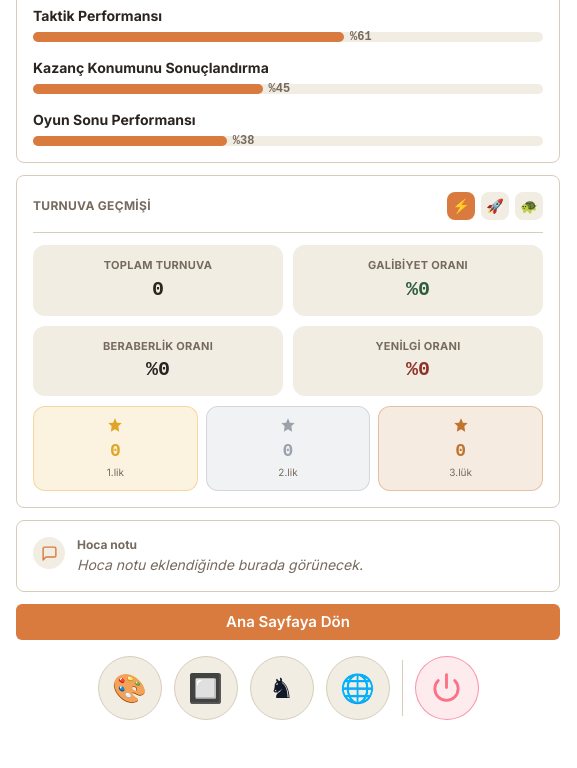
Profil sayfası — alt ayar kartları (Tema/Tahta Rengi/Taş/Dil/Çıkış) › "Dil Seçeneği" sadece Türkçe gösterir
This screenshot has width=577, height=768.
(page scrolled)
Click the button named "Dil Seçeneği". click: [358, 688]
box: [326, 656, 390, 720]
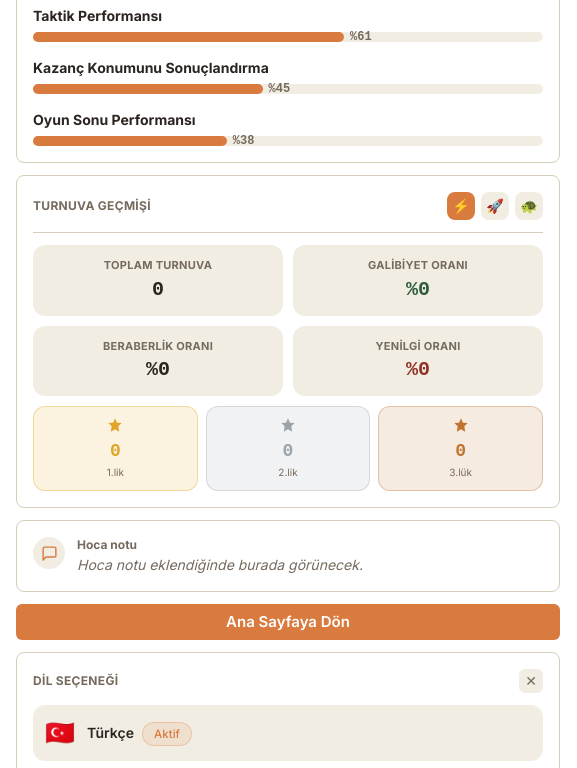
Check: the text "Türkçe" is shown, box [87, 724, 134, 741]
